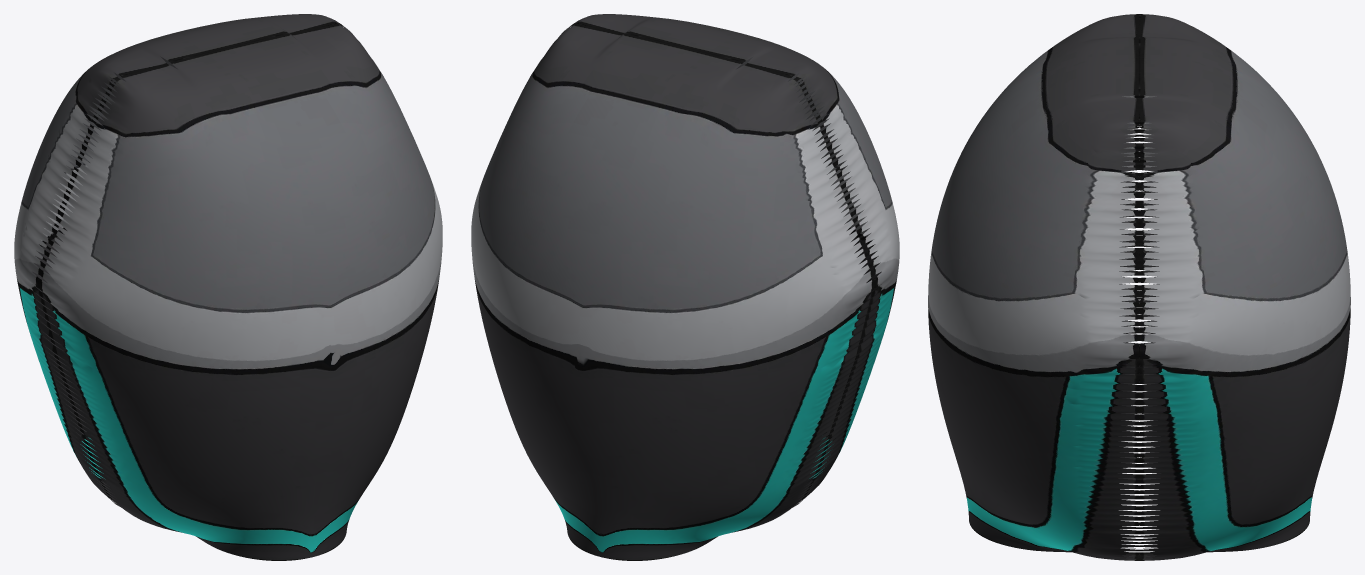
Rendered from prow_bumper.glb.
3 views of the same model, side by side, from view 1: azimuth 30°, elevation 25°; view 2: azimuth 150°, elevation 25°; view 3: azimuth 270°, elevation 25° (orthographic).
Visible parts, largest first — view 1: prow_bumper; view 2: prow_bumper; view 3: prow_bumper.
Part boxes in pixels (x1,y1,x2,y2): prow_bumper: [14, 14, 442, 560]; prow_bumper: [471, 14, 899, 560]; prow_bumper: [928, 14, 1350, 560].
Size of the model in its own units: 0.9875 by 1.12 by 0.9424.
1 material, 1 textured.
